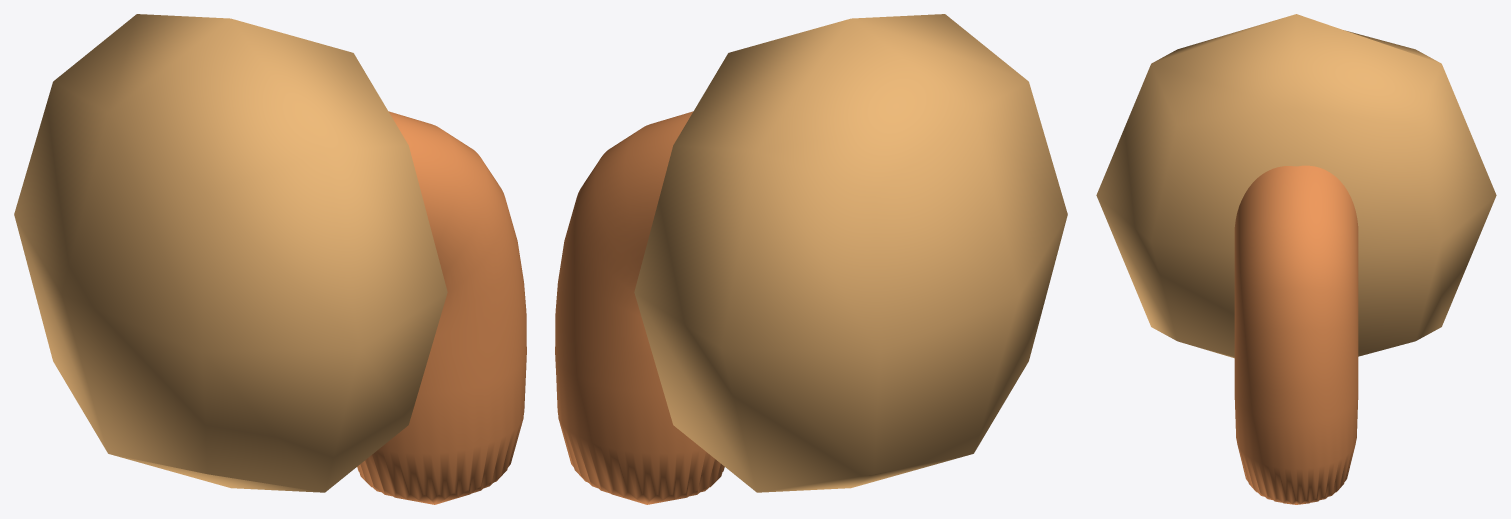
The model's file is penis1.glb.
3 views of the same model, side by side, from view 1: azimuth 30°, elevation 25°; view 2: azimuth 150°, elevation 25°; view 3: azimuth 270°, elevation 25° (orthographic). The views are drawn at different scales.
Parts seen in each view (by area): view 1: Cube, Cylinder; view 2: Cube, Cylinder; view 3: Cube, Cylinder.
Boxes of the visible parts, bbox=[...] form: Cube: bbox=[14, 14, 447, 492]; Cylinder: bbox=[357, 111, 526, 504]; Cube: bbox=[634, 14, 1067, 492]; Cylinder: bbox=[555, 111, 724, 504]; Cube: bbox=[1096, 14, 1496, 358]; Cylinder: bbox=[1234, 165, 1358, 504].
Bounding box in the file's own units: 0.7624 × 0.8569 × 0.7505.
